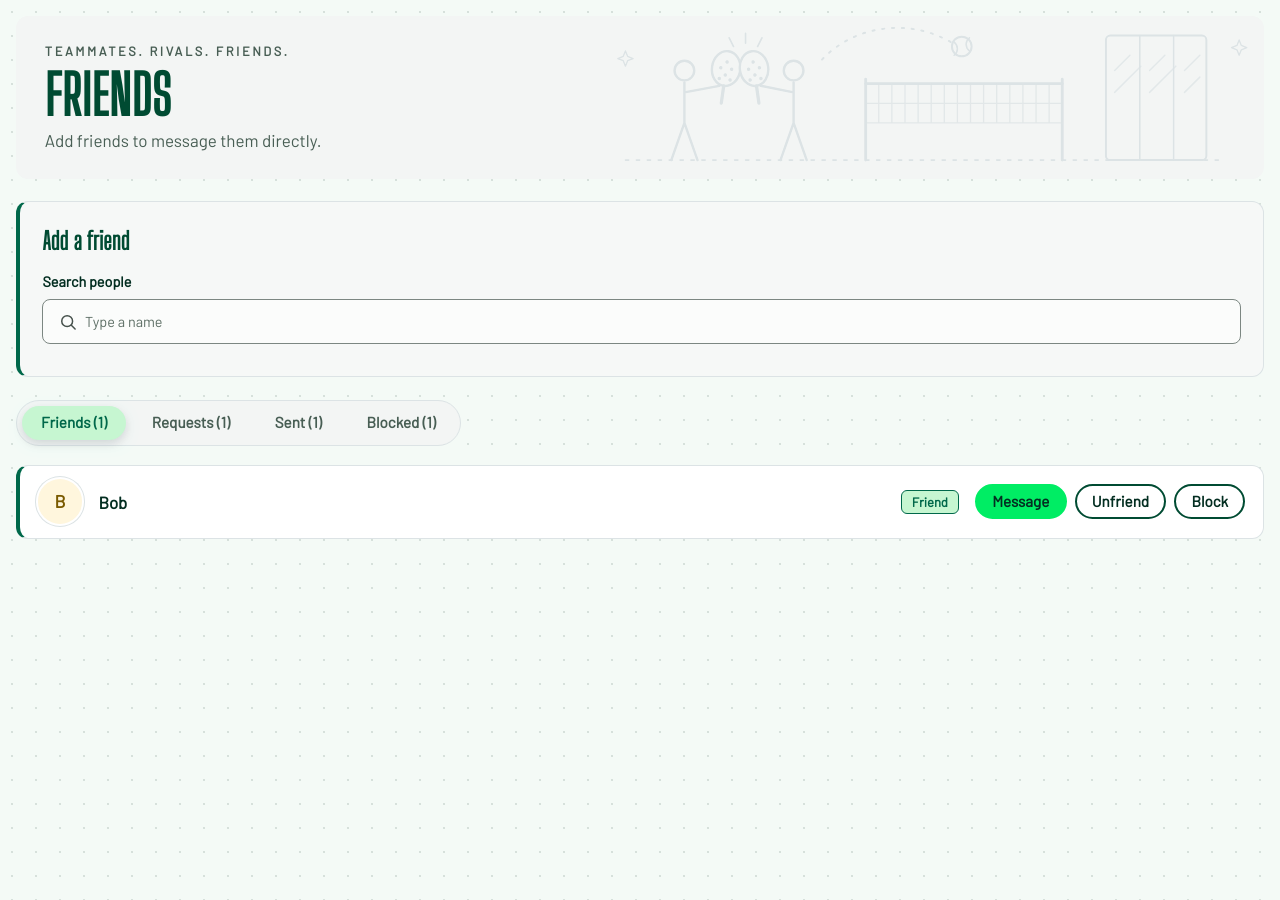
Test: friend UI actions and failure recovery › shows accepted friends with a direct chat link and keeps terminal users out of search
Expected: the link "Bob" is shown, [98,492,127,512]
Type "Finn" into the search field labelled "Search people" at (642, 322), box [42,299,1241,344]
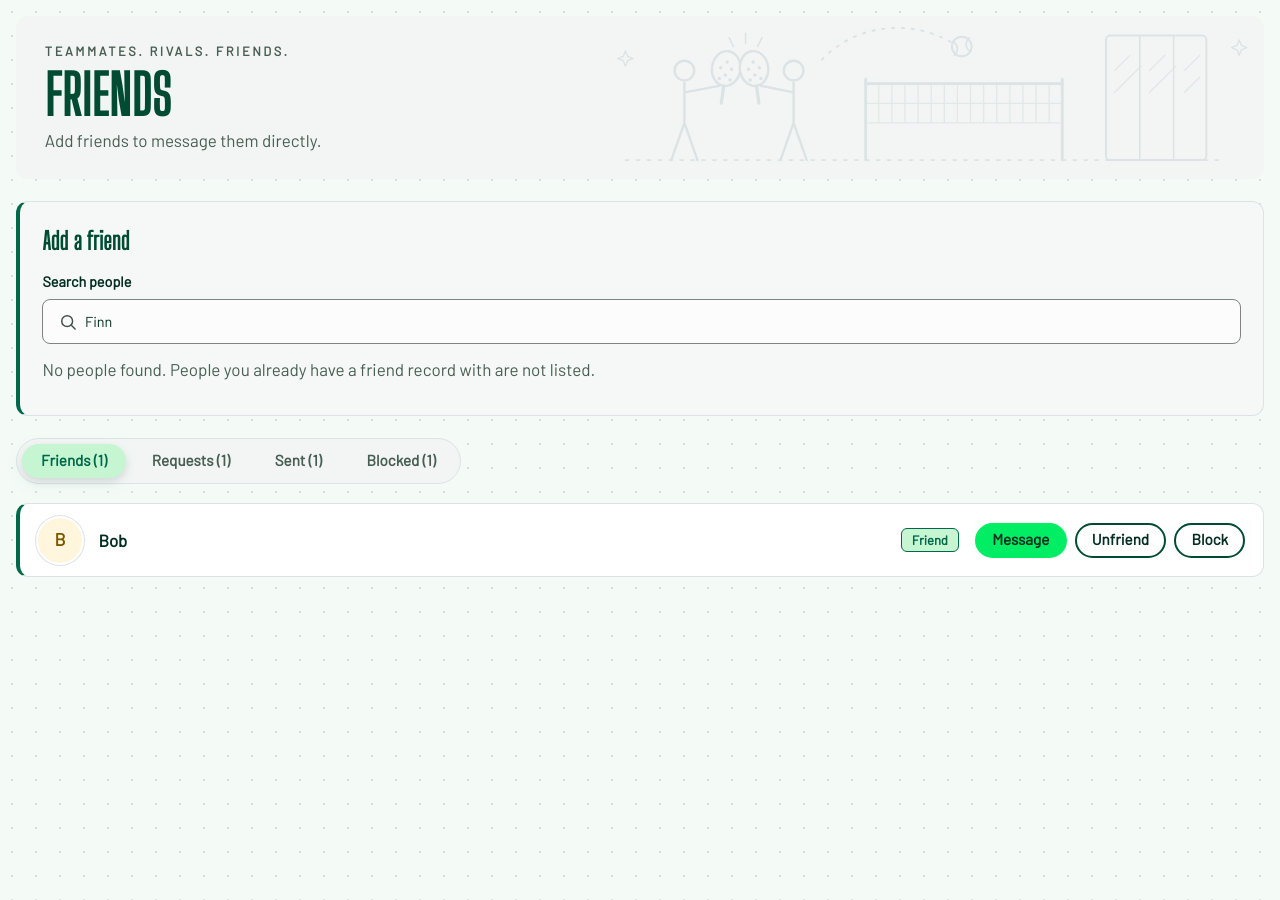
Expected: the text "No people found" is shown, [42,360,595,380]
